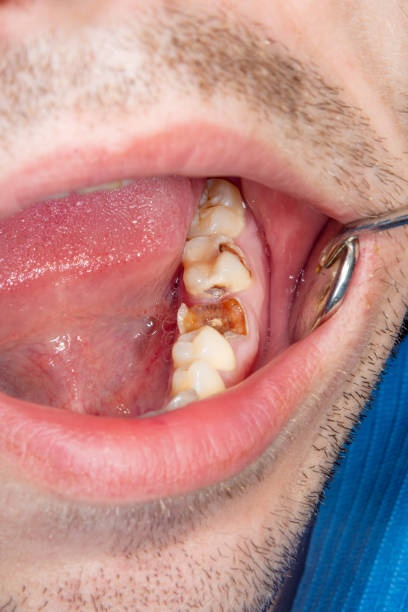Caries: (170, 276, 239, 339), (211, 238, 247, 279)
